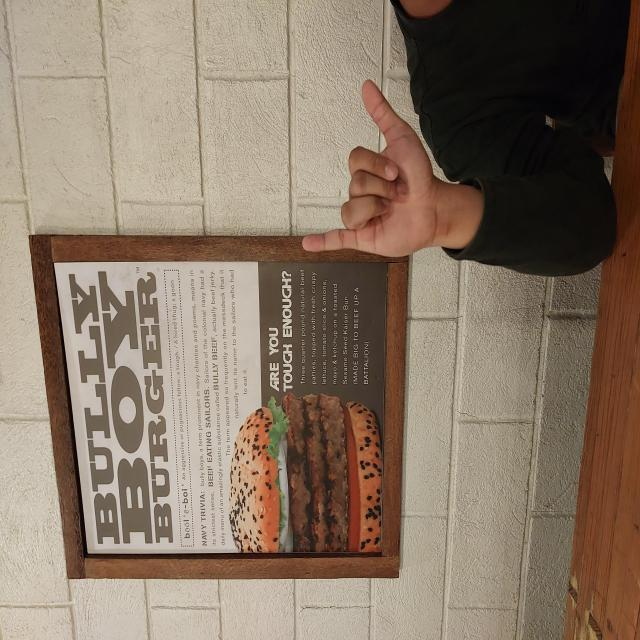Y: (382, 301, 562, 441)
